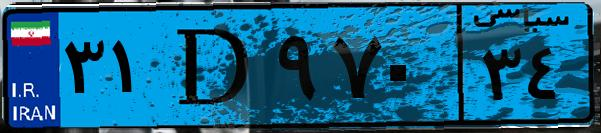0: (385, 28, 445, 110)
1: (110, 28, 158, 98)
3: (57, 26, 110, 100), (475, 38, 525, 113)
4: (525, 38, 570, 115)
7: (330, 28, 385, 110)
9: (270, 28, 330, 110)
D: (158, 12, 270, 120)
